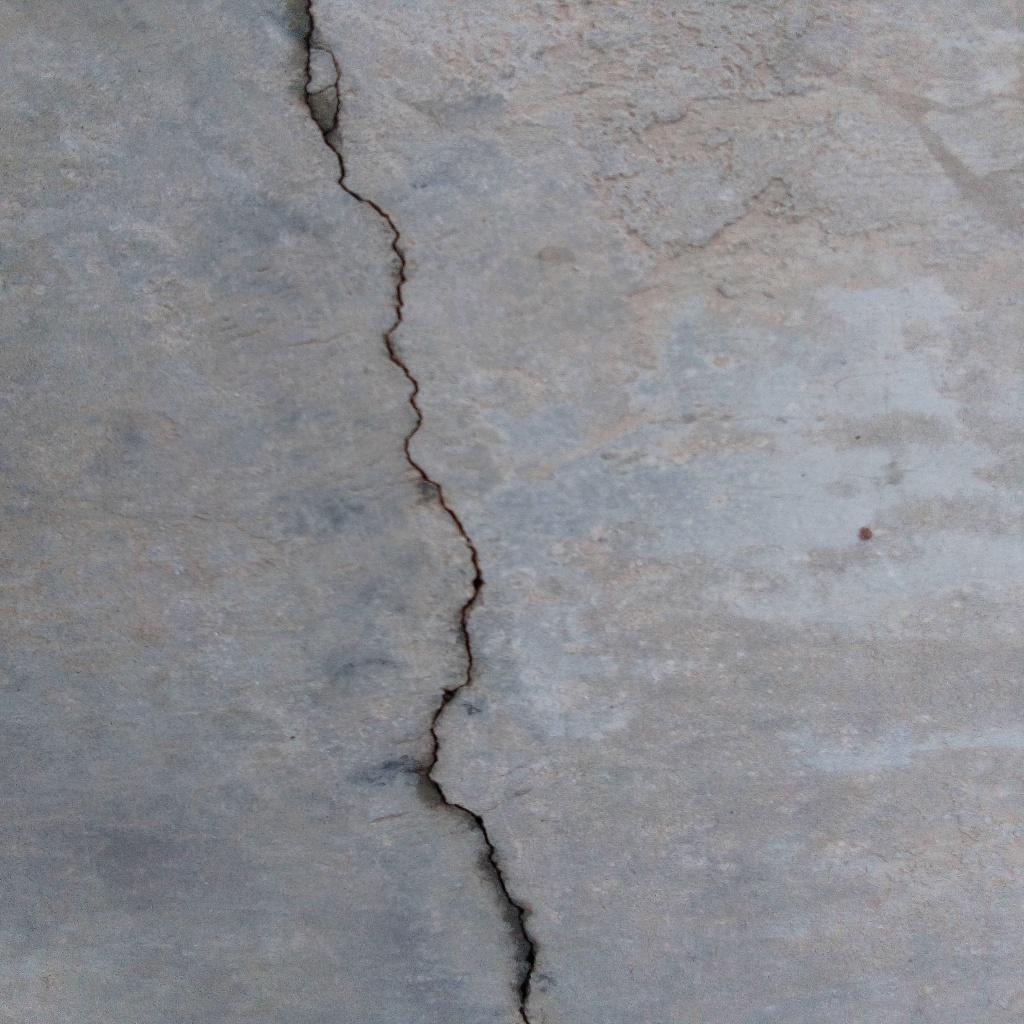crack: (298, 1, 540, 1024)
